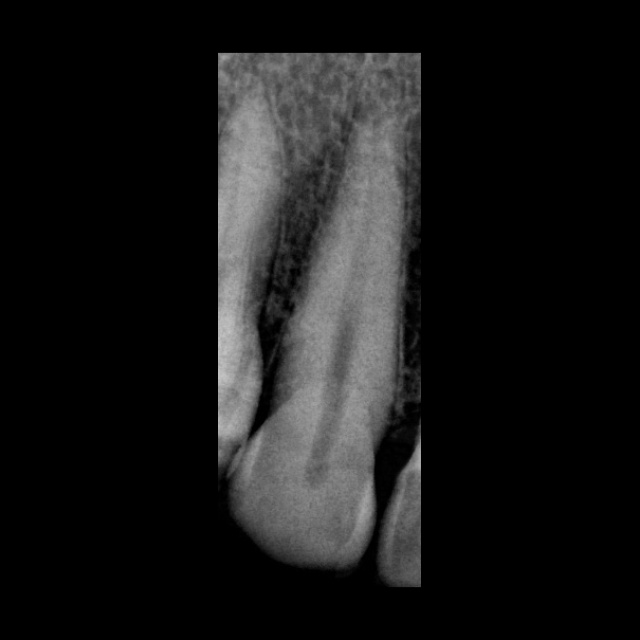tooth: (222, 70, 408, 575)
